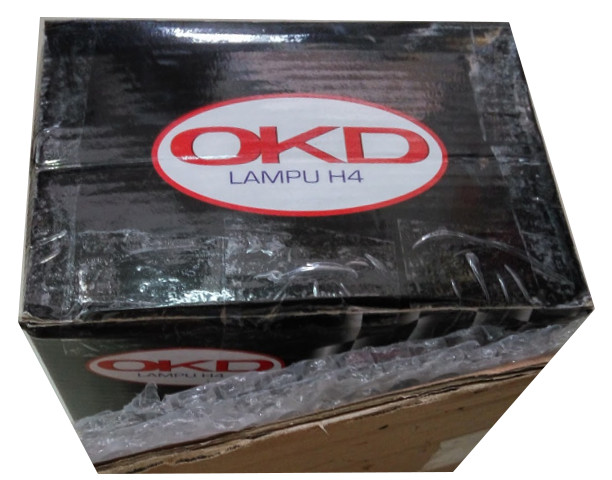cardboard: (19, 20, 593, 471)
